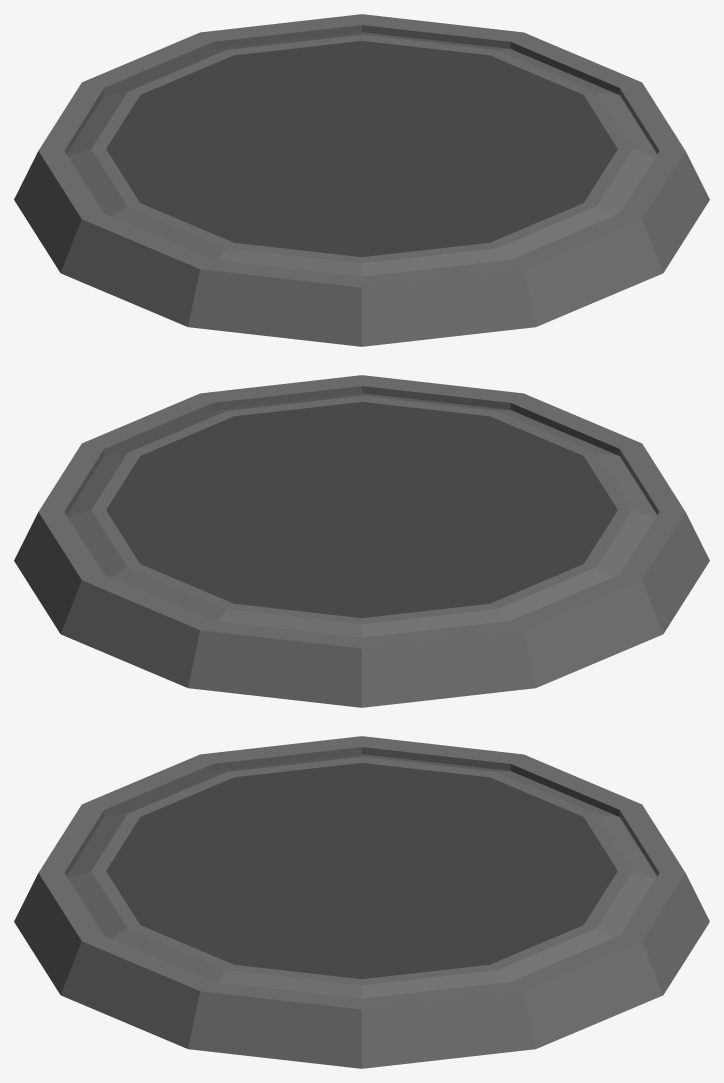
Rendered from Luke_01.glb.
3 views of the same model, one above another, from view 1: azimuth 30°, elevation 25°; view 2: azimuth 150°, elevation 25°; view 3: azimuth 270°, elevation 25° (orthographic).
Visible parts, largest first — view 1: Luke_01; view 2: Luke_01; view 3: Luke_01.
Part boxes in pixels (x1,y1,x2,y2): Luke_01: [14, 14, 709, 346]; Luke_01: [14, 375, 709, 707]; Luke_01: [14, 736, 709, 1068].
Size of the model in its own units: 0.8255 by 0.0664 by 0.8255.
Materials: 1 (1 with a texture image).
